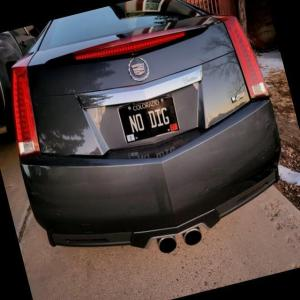Plate: (116, 93, 181, 145)
